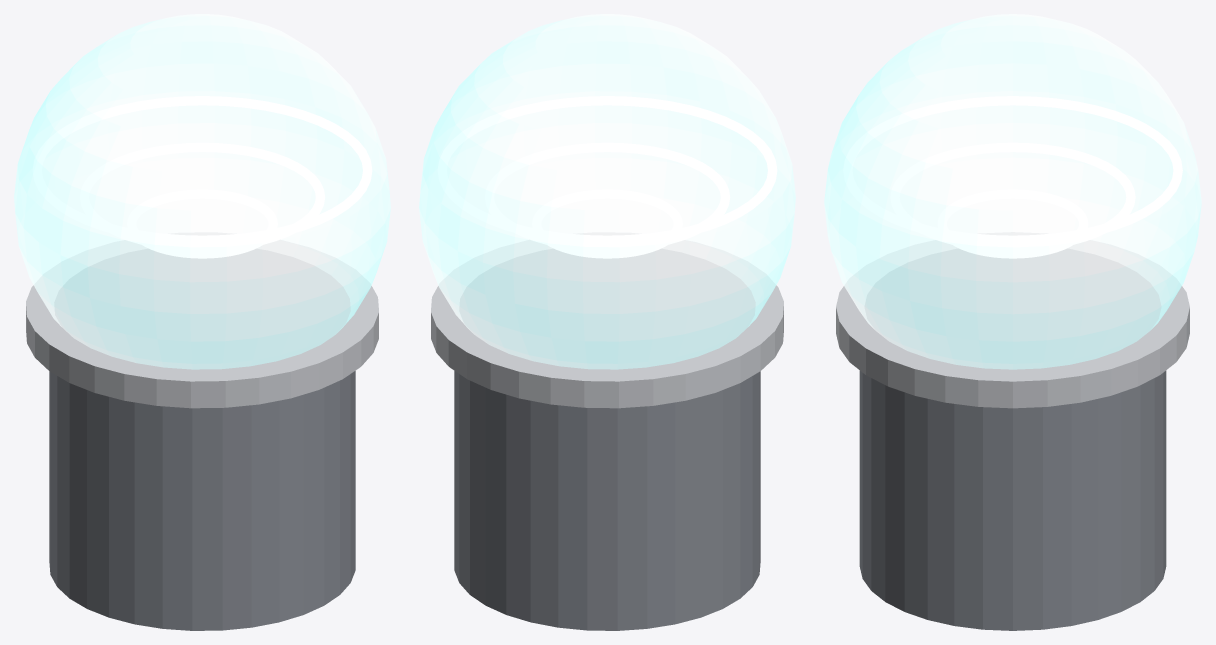
Rendered from holo_map_stand.glb.
3 renders of one model, left to right at view 1: azimuth 30°, elevation 25°; view 2: azimuth 150°, elevation 25°; view 3: azimuth 270°, elevation 25°, orthographic.
Visible parts, largest first — view 1: HoloDome, HoloPedestal, HoloEmitter, HoloRing_2, HoloRing_1, HoloRing_0; view 2: HoloDome, HoloPedestal, HoloEmitter, HoloRing_2, HoloRing_1, HoloRing_0; view 3: HoloDome, HoloPedestal, HoloEmitter, HoloRing_2, HoloRing_1, HoloRing_0.
Part boxes in pixels (left/top/right/bottom): HoloDome: left=14, top=14, right=390, bottom=369; HoloPedestal: left=49, top=371, right=355, bottom=630; HoloEmitter: left=26, top=232, right=378, bottom=408; HoloRing_2: left=32, top=96, right=372, bottom=244; HoloRing_1: left=80, top=142, right=324, bottom=251; HoloRing_0: left=127, top=189, right=277, bottom=258; HoloDome: left=419, top=14, right=795, bottom=369; HoloPedestal: left=454, top=371, right=760, bottom=630; HoloEmitter: left=431, top=232, right=783, bottom=408; HoloRing_2: left=437, top=96, right=777, bottom=244; HoloRing_1: left=485, top=142, right=729, bottom=251; HoloRing_0: left=532, top=189, right=682, bottom=258; HoloDome: left=824, top=14, right=1201, bottom=369; HoloPedestal: left=859, top=370, right=1166, bottom=630; HoloEmitter: left=836, top=232, right=1189, bottom=408; HoloRing_2: left=843, top=96, right=1182, bottom=244; HoloRing_1: left=890, top=142, right=1135, bottom=251; HoloRing_0: left=937, top=189, right=1088, bottom=258.
Bounding box in the file's own units: 3.2 × 5 × 3.2.
